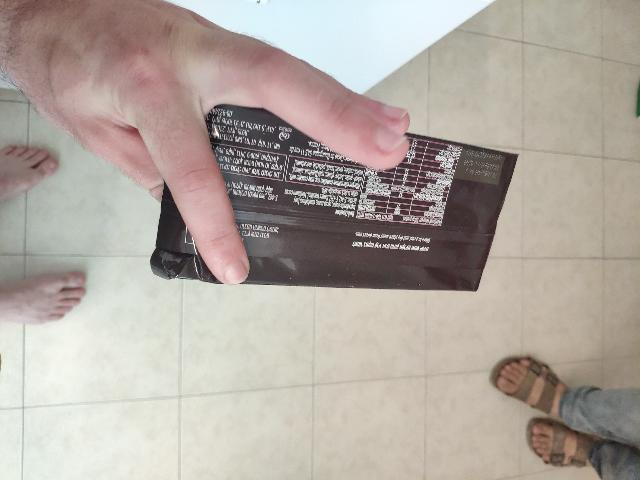chocolate: (263, 123, 460, 480)
